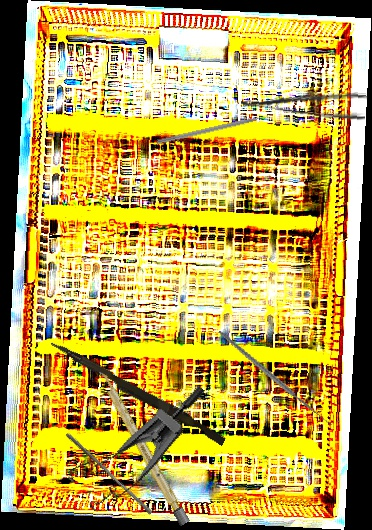Chopper: (156, 112, 277, 151)
Dressing Forceps: (240, 78, 369, 123)
Hook Surgical: (216, 303, 340, 451)
Pusher: (46, 340, 229, 446), (62, 432, 156, 515)
Scalpel Handle: (96, 368, 190, 527)
Speculum: (58, 351, 207, 530)
